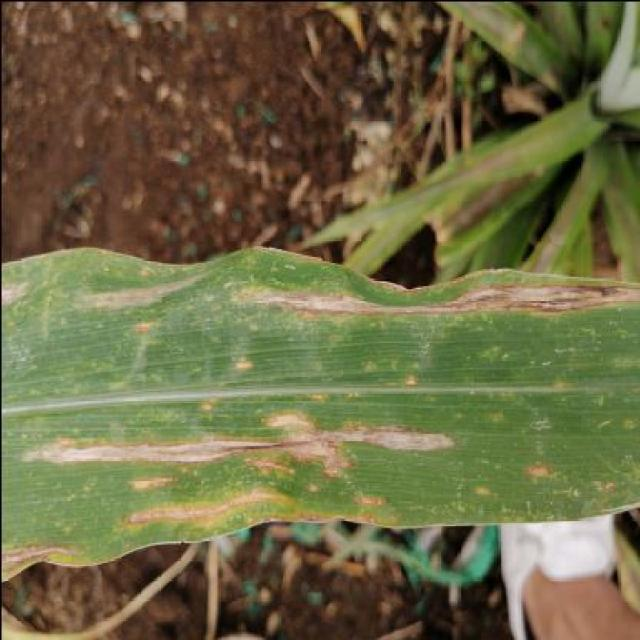Corn_Leaf_Blight: (0, 236, 640, 550)
